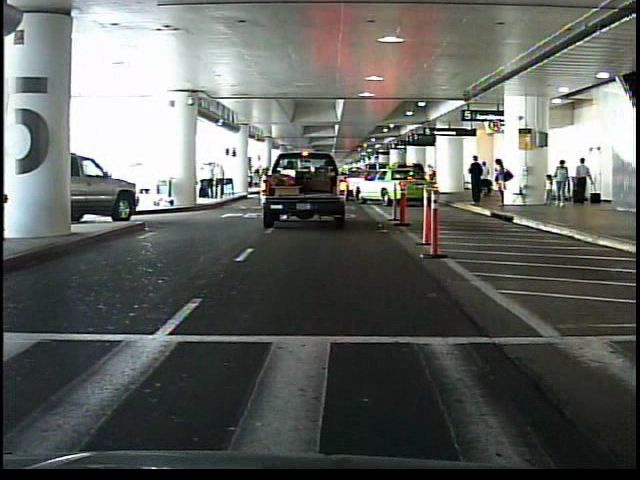person: (493, 157, 514, 210), (468, 154, 487, 206), (481, 157, 494, 205)
